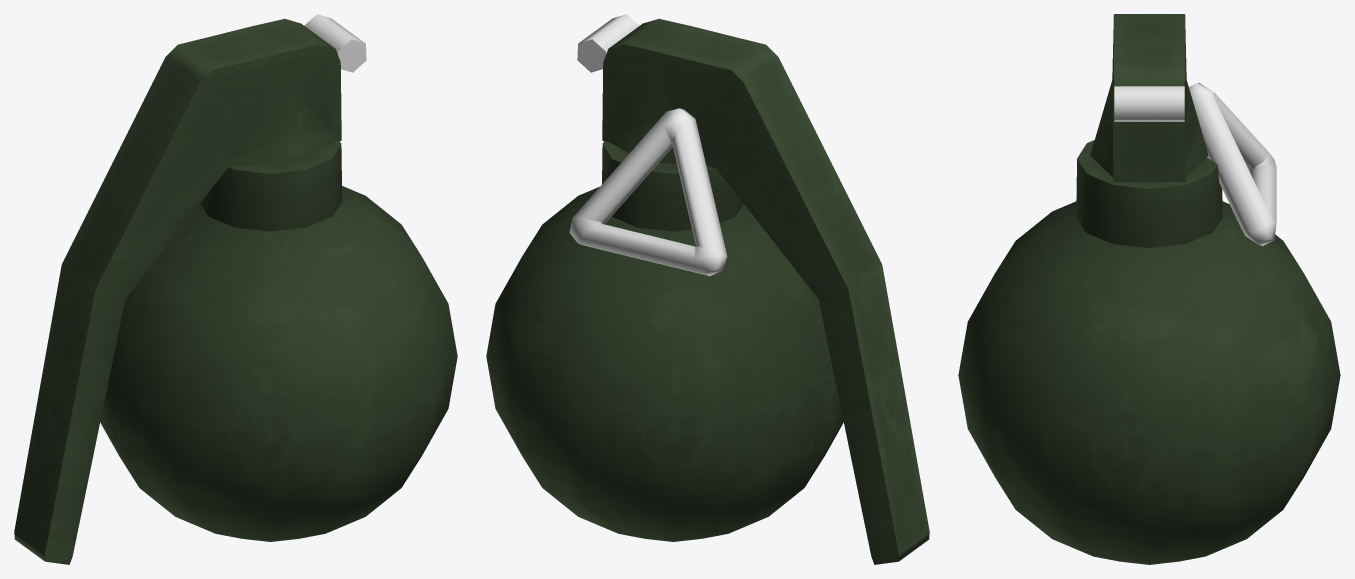
Rendered from Grenade_One.fbx.
3 views of the same model, side by side, from view 1: azimuth 30°, elevation 25°; view 2: azimuth 150°, elevation 25°; view 3: azimuth 270°, elevation 25° (orthographic). The views are drawn at different scales.
Parts seen in each view (by area): view 1: SM_Ammunition_6; view 2: SM_Ammunition_6; view 3: SM_Ammunition_6.
Boxes of the visible parts, left/top/right/bottom form: SM_Ammunition_6: left=14, top=14, right=457, bottom=564; SM_Ammunition_6: left=486, top=14, right=929, bottom=564; SM_Ammunition_6: left=958, top=14, right=1340, bottom=564.
Size of the model in its own units: 0.4396 by 0.5079 by 0.3537.
